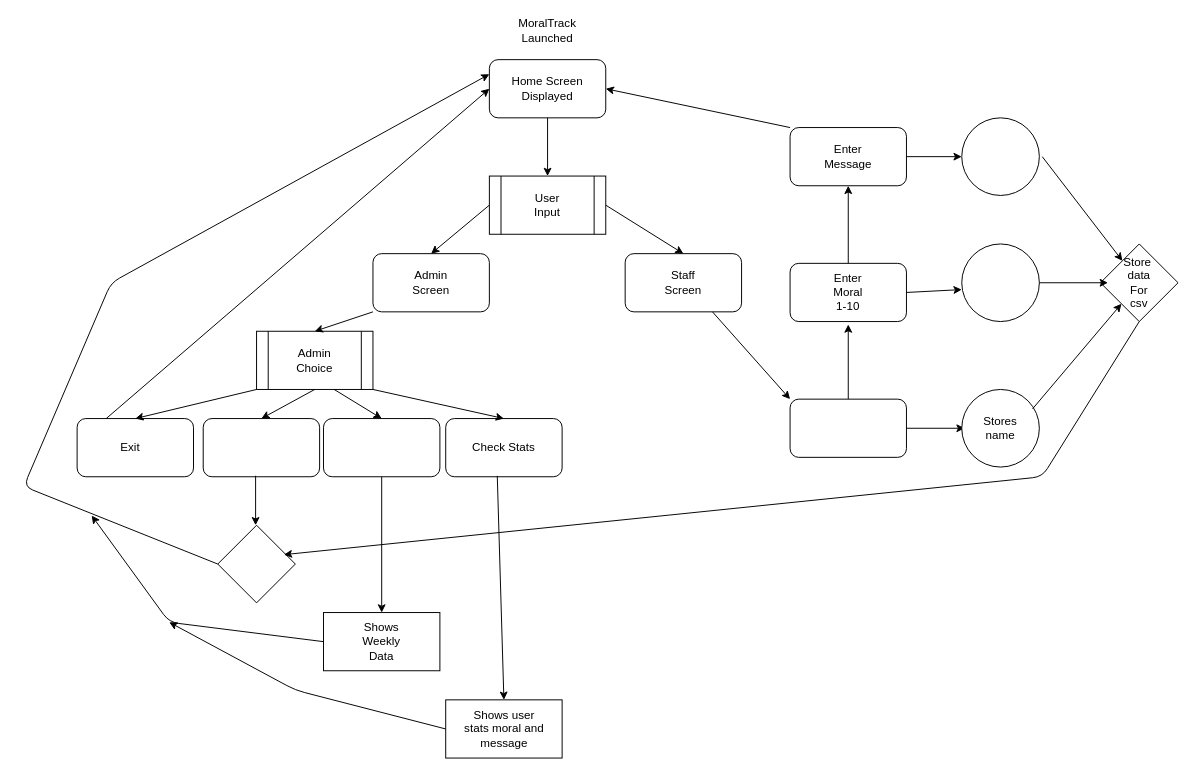
The diagram is 1195 pixels wide and 775 high, and some of its shapes have lost their labels. Each missing label, with the centre of its shape:
"Check Weekly Data" belongs at [381,447].
"Download data" belongs at [261,447].
"Enter Name" belongs at [847,427].
"Export csv" belongs at [256,563].
"Stores message" belongs at [1000,156].
"Stores Score" belongs at [1000,282].
